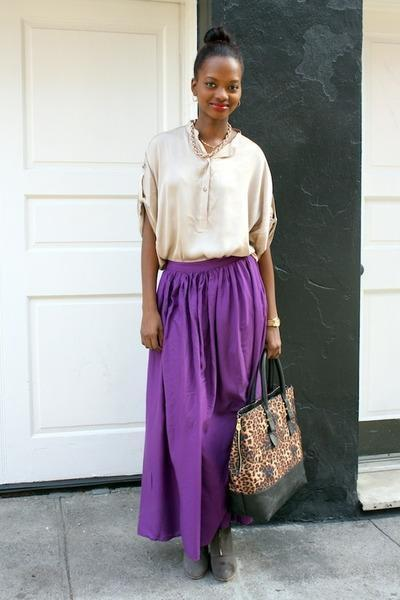bag: (222, 379, 303, 493)
shirt: (140, 120, 275, 264)
shoe: (172, 546, 234, 583)
skirt: (112, 255, 275, 557)
